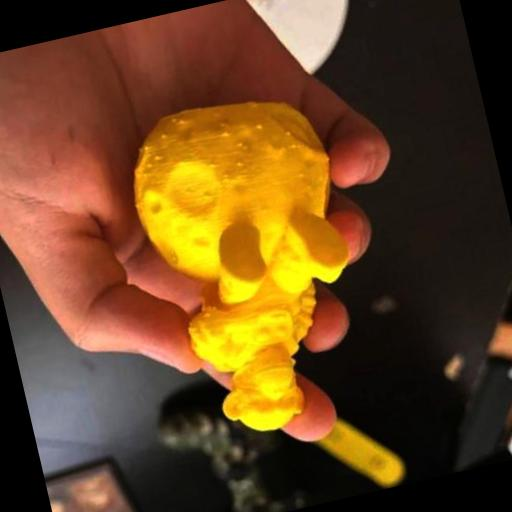blobs: (200, 190, 215, 206), (153, 150, 166, 164), (140, 142, 153, 156), (222, 171, 235, 184), (220, 128, 234, 140), (158, 130, 170, 143), (208, 160, 220, 171), (296, 170, 306, 182), (144, 160, 156, 170), (236, 139, 246, 150), (255, 122, 266, 132), (288, 142, 299, 152), (285, 129, 294, 138), (235, 158, 243, 168), (242, 144, 250, 152)
